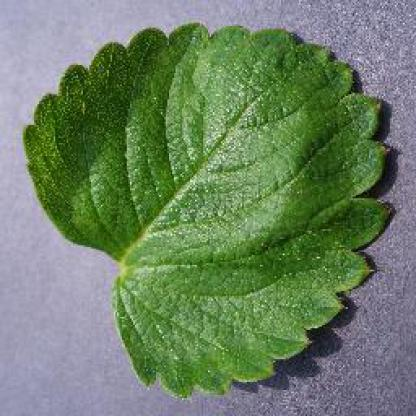healthy: (16, 11, 405, 403)
